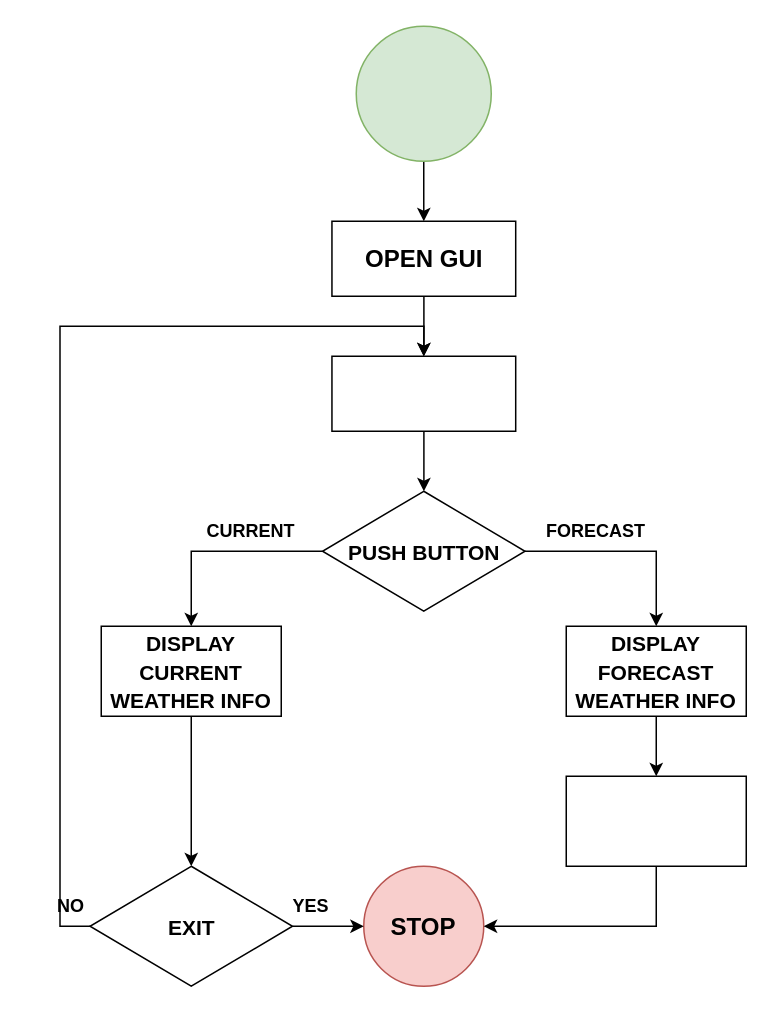
Some shapes in this 773 by 1013 pixel diagram are drawn without their labels. The box of each missing label's shape, as (x1, y1, x2, y2) in pixels:
GENERATE FILES: (565, 775, 746, 866)
INSERT CITY NAME: (330, 355, 516, 431)
START: (355, 25, 491, 161)
